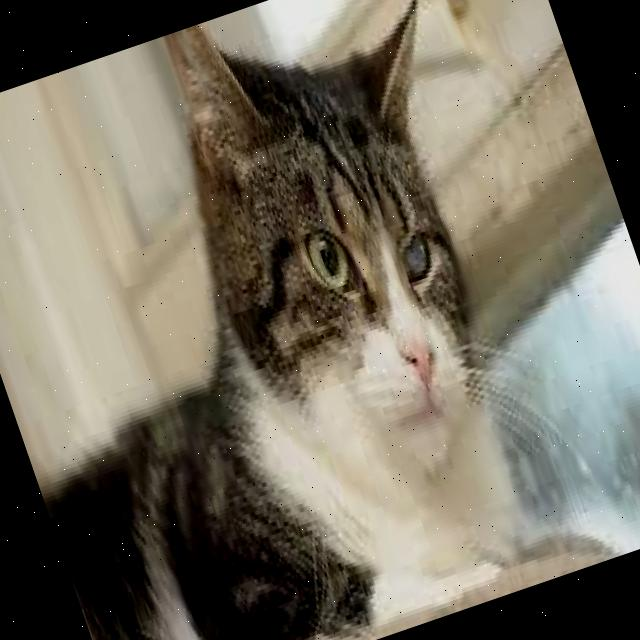cat-eye: (386, 218, 442, 294)
cat-eye-normal: (291, 212, 364, 304)
